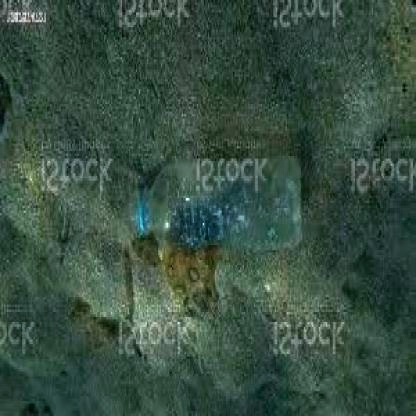pbottle: (128, 146, 305, 270)
